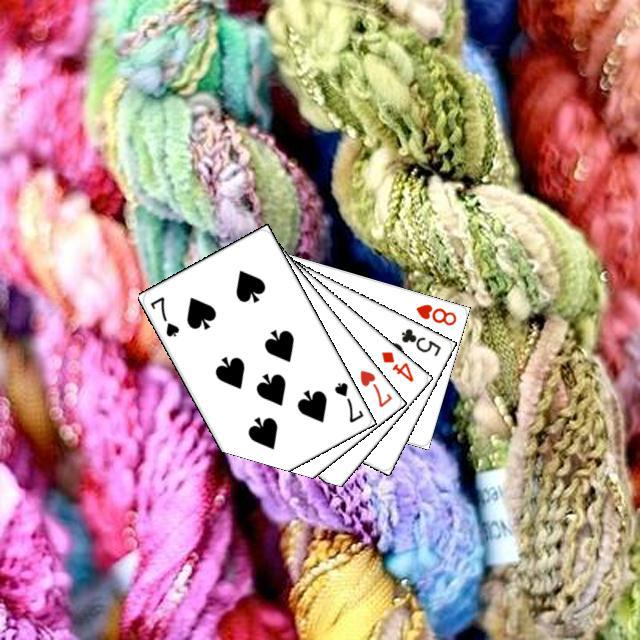4d: (376, 346, 415, 384)
5c: (396, 323, 443, 358)
7h: (355, 365, 394, 409)
7s: (145, 291, 181, 339), (329, 377, 365, 424)
8h: (411, 299, 458, 327)
